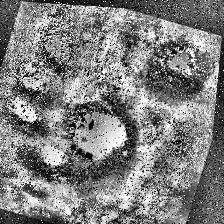pothole: (57, 98, 144, 188), (140, 33, 220, 107), (23, 135, 82, 187), (1, 86, 49, 134), (21, 172, 63, 206), (19, 196, 69, 224), (182, 166, 204, 220)
